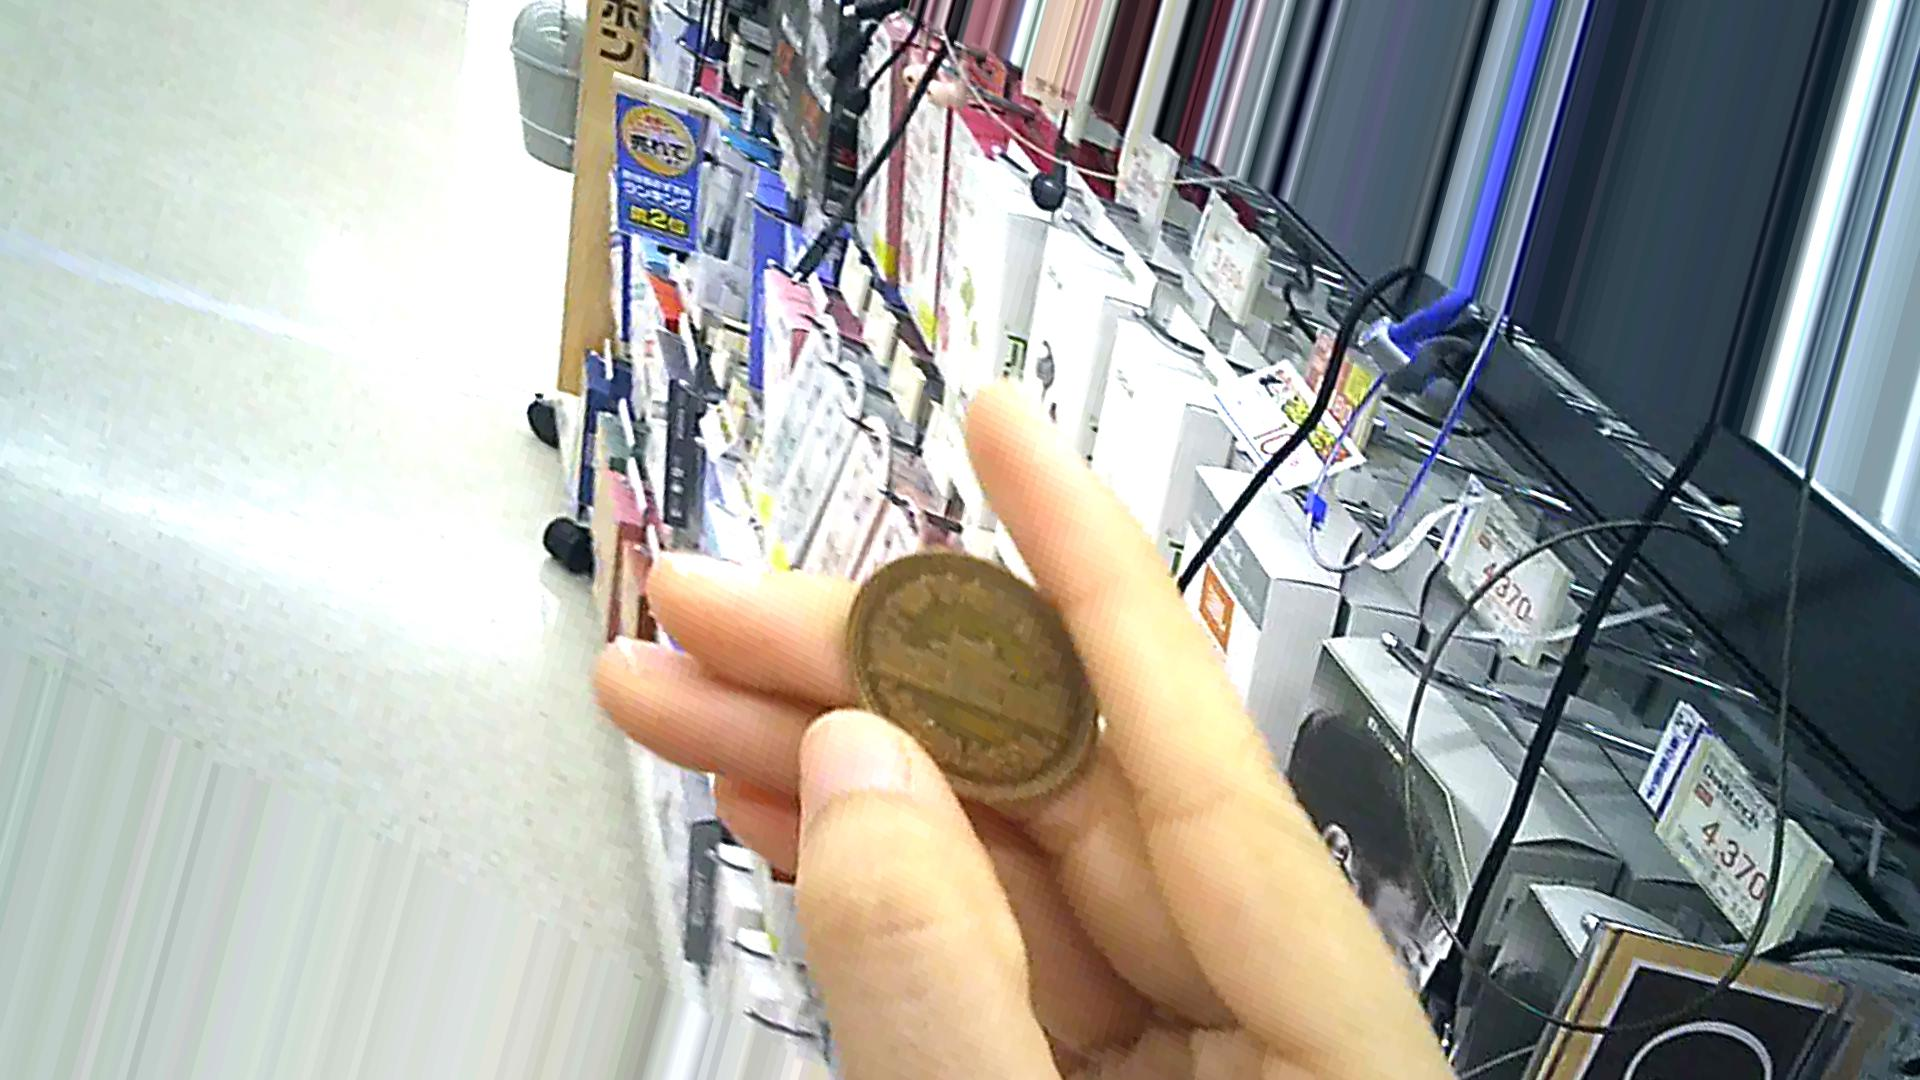10 Yen: (841, 530, 1105, 819)
